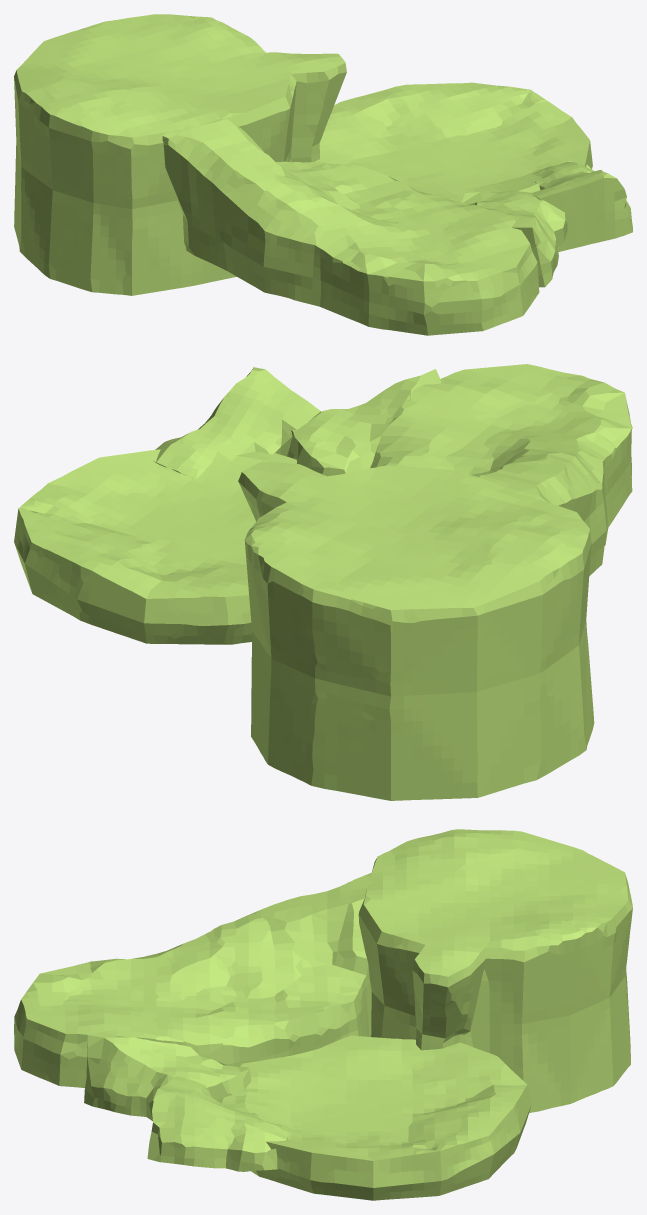
File: testscenebase.glb
The picture shows the model from 3 angles, top to bottom: view 1: azimuth 30°, elevation 25°; view 2: azimuth 150°, elevation 25°; view 3: azimuth 270°, elevation 25°; orthographic projection. The views are drawn at different scales.
Visible parts, largest first — view 1: Terrain_01, Terrain_02, Terrain_03, Route_23, Route_23_1; view 2: Terrain_01, Terrain_03, Terrain_02, Route_23, Route_23_1; view 3: Terrain_01, Terrain_02, Terrain_03, Route_23, Route_23_1.
Boxes of the visible parts, bbox=[...] form: Terrain_01: bbox=[14, 14, 346, 295]; Terrain_02: bbox=[162, 119, 539, 335]; Terrain_03: bbox=[315, 82, 592, 202]; Route_23: bbox=[531, 161, 632, 252]; Route_23_1: bbox=[462, 191, 567, 287]; Terrain_01: bbox=[238, 461, 594, 800]; Terrain_03: bbox=[14, 449, 296, 644]; Terrain_02: bbox=[370, 364, 632, 575]; Route_23: bbox=[153, 367, 320, 479]; Route_23_1: bbox=[287, 369, 441, 476]; Terrain_01: bbox=[358, 829, 632, 1112]; Terrain_02: bbox=[14, 873, 373, 1087]; Terrain_03: bbox=[222, 1035, 531, 1200]; Route_23: bbox=[147, 1076, 289, 1171]; Route_23_1: bbox=[84, 1031, 251, 1120].
Size of the model in its own units: 94.73 by 32.53 by 102.
